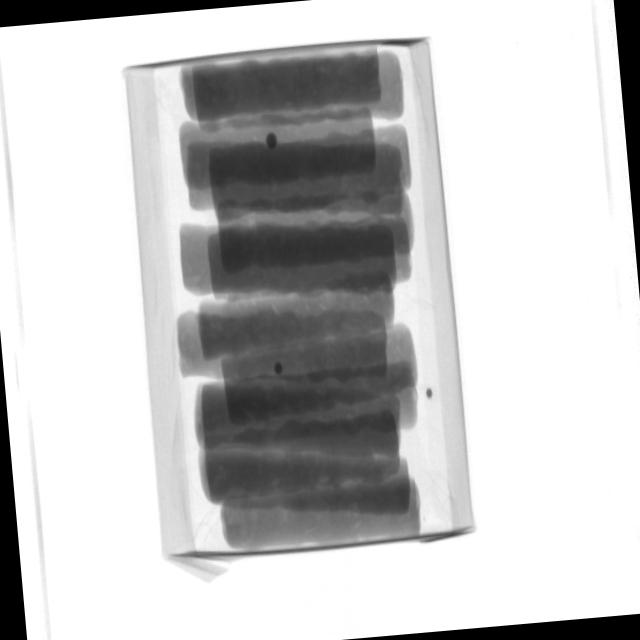ym: (266, 132, 280, 151), (275, 361, 286, 375), (427, 387, 435, 398)
